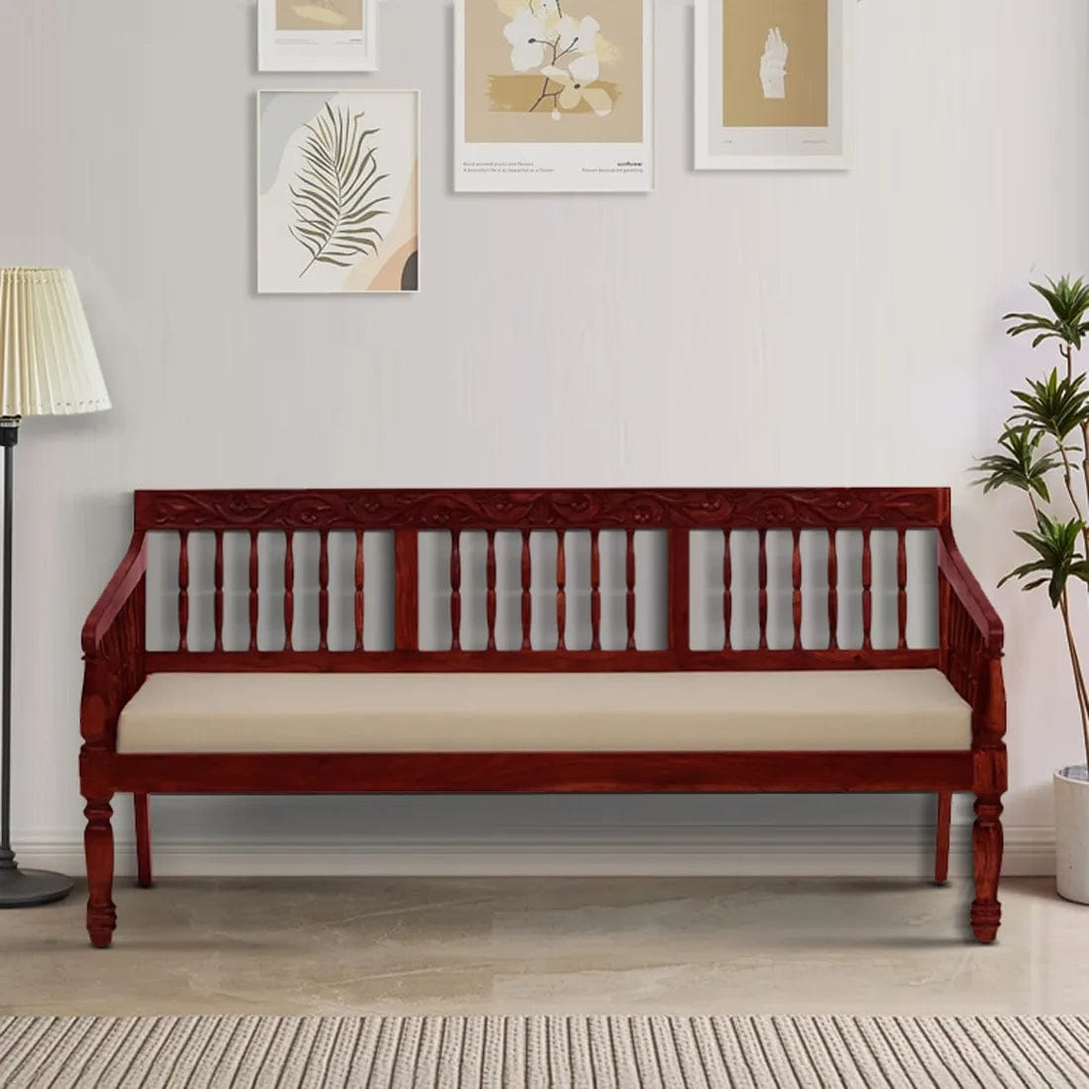3seatersofa: (79, 488, 1006, 947)
backrest: (131, 484, 952, 675)
base: (107, 750, 972, 792)
leftarmrest: (940, 527, 1003, 655)
leg: (81, 574, 151, 953), (937, 565, 1006, 949), (935, 792, 954, 883), (134, 793, 151, 887)
rightarmrest: (82, 534, 145, 655)
seat: (120, 670, 969, 753)
